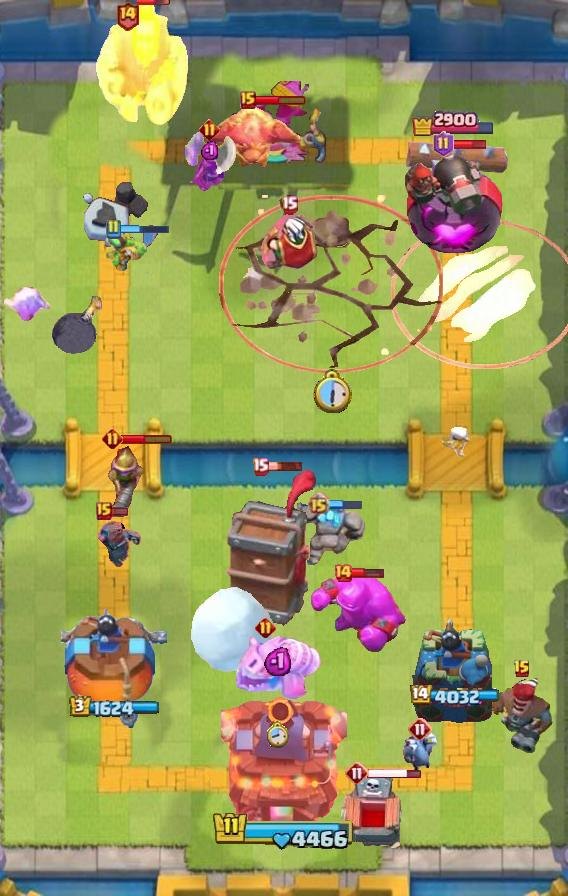baby-dragon: (51, 294, 102, 356)
battle-ram: (87, 515, 143, 571)
bomb-tower: (103, 443, 145, 517)
cannon: (186, 145, 232, 195)
clock: (212, 810, 356, 852)
clone: (306, 570, 408, 654)
dart-goblin: (226, 468, 317, 626)
electro-spirit: (265, 644, 292, 675), (201, 140, 218, 160)
elixir: (312, 370, 352, 414), (265, 720, 289, 748)
elixir-golem-mid: (338, 771, 408, 857)
emote: (367, 767, 422, 780), (254, 94, 307, 106), (119, 433, 172, 445), (118, 223, 170, 235), (267, 460, 304, 472), (328, 498, 364, 510), (351, 567, 384, 579), (453, 138, 488, 149), (137, 0, 171, 7), (111, 507, 130, 518)
giant-skeleton: (95, 0, 191, 128)
giant-snowball: (99, 229, 147, 273)
guard: (219, 194, 443, 373)
heal-spirit: (442, 425, 474, 457)
ice-wizard: (392, 219, 568, 369)
king-tower: (221, 690, 347, 826)
minion: (403, 141, 509, 177)
mirror: (0, 285, 50, 323)
mother-witch: (206, 103, 308, 173)
night-witch: (232, 631, 322, 703)
phoenix-small: (489, 676, 555, 756)
queen-tower: (61, 603, 167, 731), (409, 616, 497, 731)
royal-delivery: (400, 730, 440, 774)
royal-giant: (185, 130, 237, 180)
selected: (412, 109, 497, 136), (409, 685, 500, 708), (68, 694, 159, 717)
skeleton-king: (259, 208, 319, 274)
text: (115, 0, 140, 31), (408, 717, 432, 741), (345, 761, 369, 785), (306, 492, 329, 516), (433, 131, 454, 157), (256, 617, 277, 639), (199, 119, 220, 140), (101, 427, 122, 448), (333, 563, 353, 583), (513, 659, 531, 679), (281, 195, 298, 214), (251, 456, 268, 475), (105, 219, 121, 239), (240, 91, 256, 109), (96, 502, 112, 520)
tower-bar: (403, 138, 503, 256)
valkyrie-evolution: (297, 501, 369, 571)
wall-breaker: (190, 587, 276, 673)
